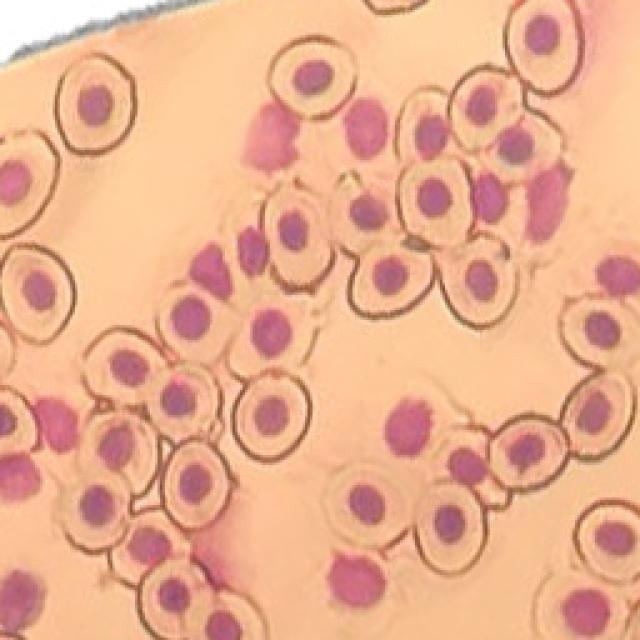RBC: (55, 52, 138, 154), (262, 181, 335, 290), (435, 234, 518, 327), (0, 244, 76, 342), (228, 298, 318, 379), (324, 464, 409, 549), (269, 36, 356, 119), (505, 0, 581, 94), (232, 371, 311, 461), (398, 156, 474, 248), (414, 481, 488, 574), (79, 410, 159, 496), (82, 328, 168, 406), (532, 571, 629, 640), (159, 282, 239, 364), (0, 130, 60, 238), (138, 556, 215, 640), (561, 372, 635, 459), (449, 66, 524, 151), (434, 426, 511, 508), (162, 440, 231, 530), (350, 244, 434, 317), (489, 415, 569, 491), (480, 110, 562, 184), (330, 170, 400, 256), (111, 509, 191, 584), (560, 295, 640, 369), (148, 362, 220, 442), (60, 472, 130, 552), (574, 500, 640, 582), (0, 386, 40, 501), (395, 88, 450, 163), (205, 589, 268, 640)
WBC: (244, 100, 299, 172), (526, 164, 571, 242), (328, 552, 386, 607), (0, 570, 45, 633), (385, 398, 432, 456), (344, 99, 388, 158), (189, 242, 232, 299), (34, 398, 78, 452), (596, 256, 640, 296), (474, 172, 508, 222), (238, 226, 268, 276)
